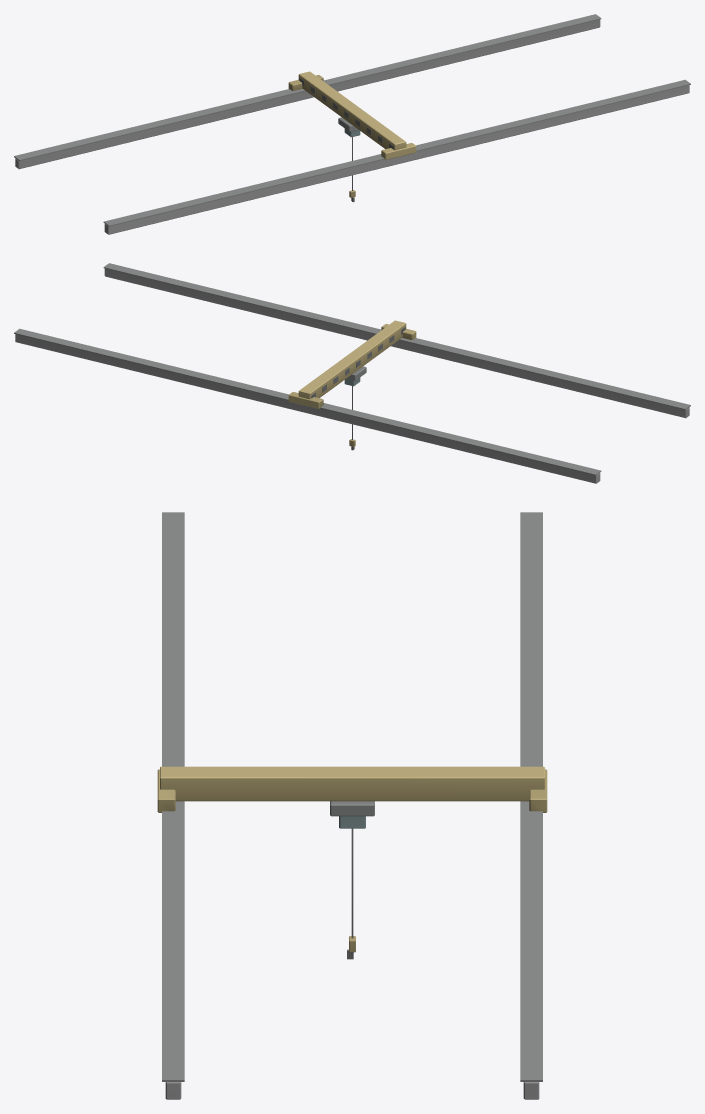
File: int_gantry.glb
3 renders of one model, top to bottom at view 1: azimuth 30°, elevation 25°; view 2: azimuth 150°, elevation 25°; view 3: azimuth 270°, elevation 25°, orthographic. The views are drawn at different scales.
Parts seen in each view (by area): view 1: int_gantry; view 2: int_gantry; view 3: int_gantry.
Boxes of the visible parts, x1,y1,x2,y2 form: int_gantry: [14, 14, 690, 234]; int_gantry: [14, 263, 690, 483]; int_gantry: [157, 512, 547, 1099].
Size of the model in its own units: 60 by 9.2 by 17.4.
